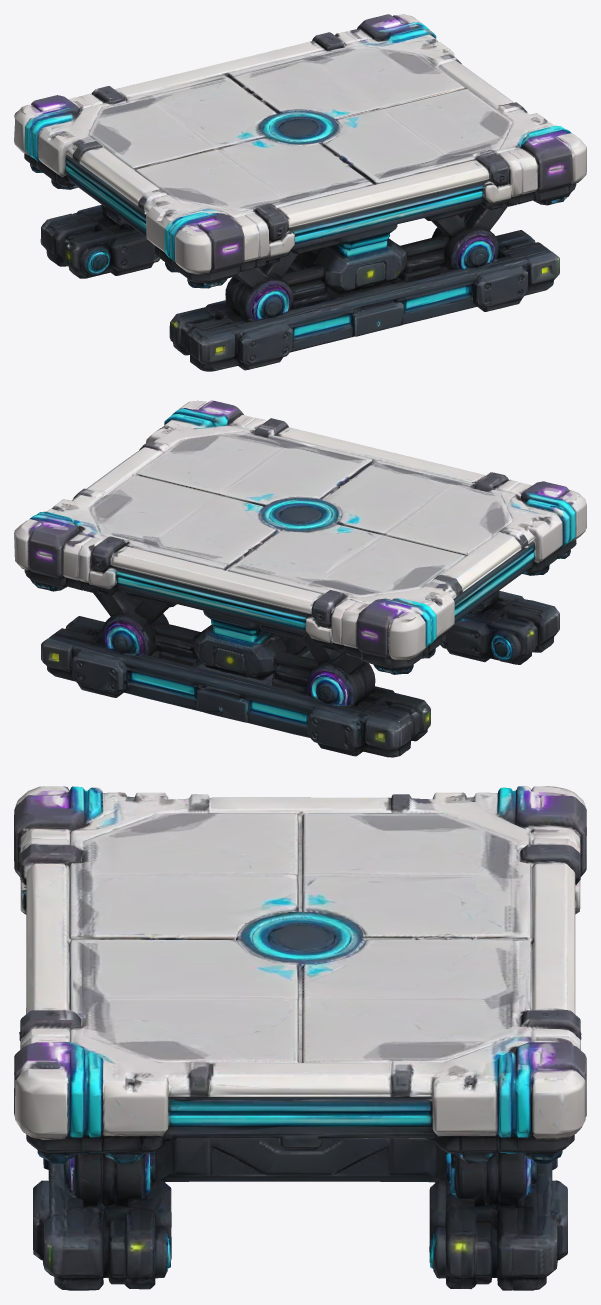
File: model-19-lift-platform.glb
3 renders of one model, top to bottom at view 1: azimuth 30°, elevation 25°; view 2: azimuth 150°, elevation 25°; view 3: azimuth 270°, elevation 25°, orthographic. The views are drawn at different scales.
Parts seen in each view (by area): view 1: node_0; view 2: node_0; view 3: node_0.
Part boxes in pixels (x1,y1,x2,y2): node_0: [14, 14, 586, 371]; node_0: [14, 400, 586, 757]; node_0: [14, 786, 586, 1290].
Size of the model in its own units: 0.9342 by 0.344 by 0.7475.
Materials: 1 (1 with a texture image).
